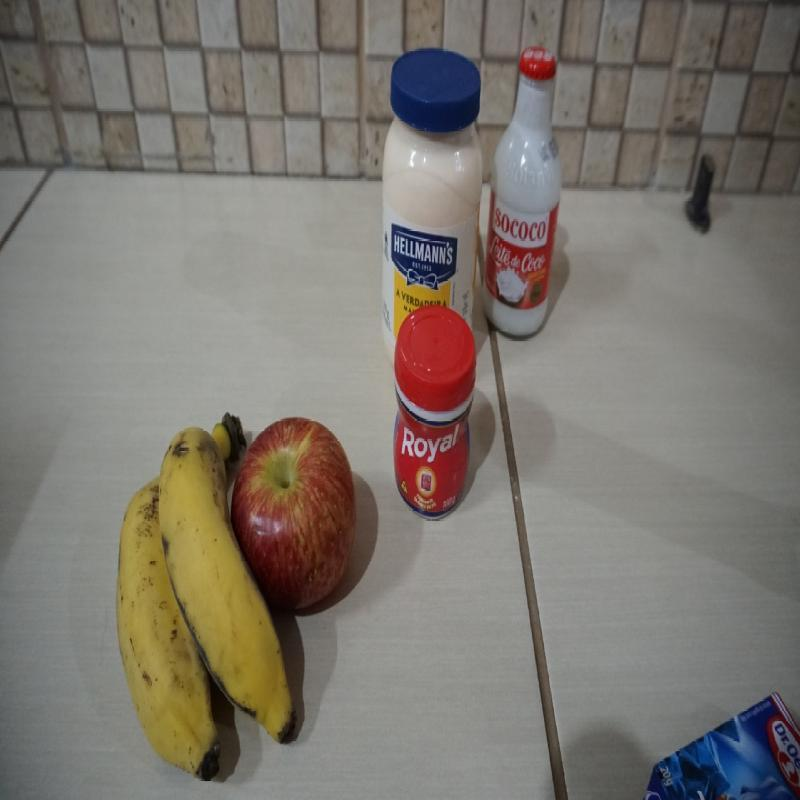Apple: (235, 411, 355, 608)
Banana: (114, 407, 231, 785)
Coconut Milk: (488, 48, 559, 339)
Gelatine: (646, 685, 798, 797)
Mayonnaise: (382, 41, 480, 297)
Yeast: (387, 304, 475, 525)
